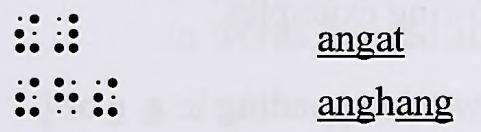letter_h: (52, 76, 80, 118)
one_cell_part_word_ang: (13, 76, 42, 119), (91, 77, 120, 117), (14, 12, 40, 54)
one_cell_part_word_at: (53, 12, 81, 54)
